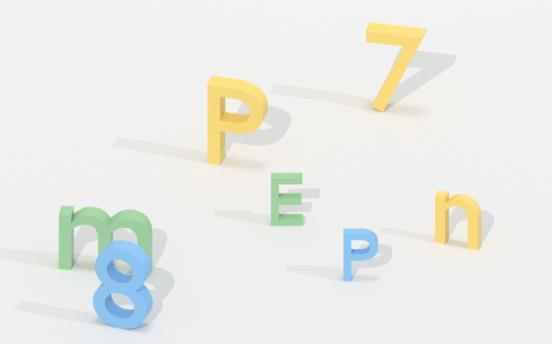7: (365, 18, 428, 114)
8: (85, 235, 157, 334)
E-hoa: (268, 167, 307, 232)
m: (55, 204, 156, 275)
n: (433, 189, 484, 253)
p: (201, 73, 270, 176), (335, 224, 381, 292)
